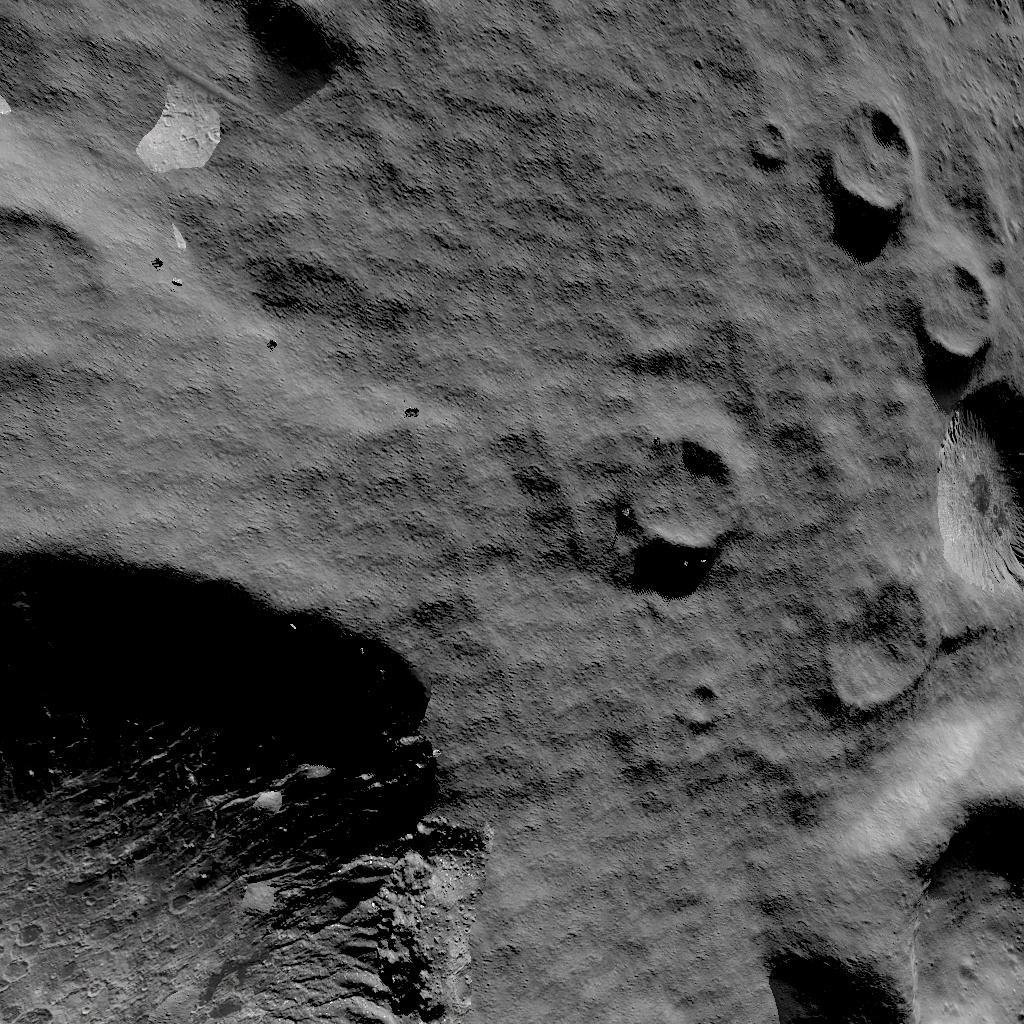Boulders: (131, 80, 234, 172)
Crater: (0, 532, 471, 1024), (795, 384, 1024, 716), (764, 766, 1024, 1022), (601, 426, 732, 566), (812, 113, 912, 225), (896, 267, 1004, 361), (742, 130, 788, 178)
Plan surface: (111, 188, 580, 514), (487, 748, 730, 1024), (365, 0, 722, 174)
